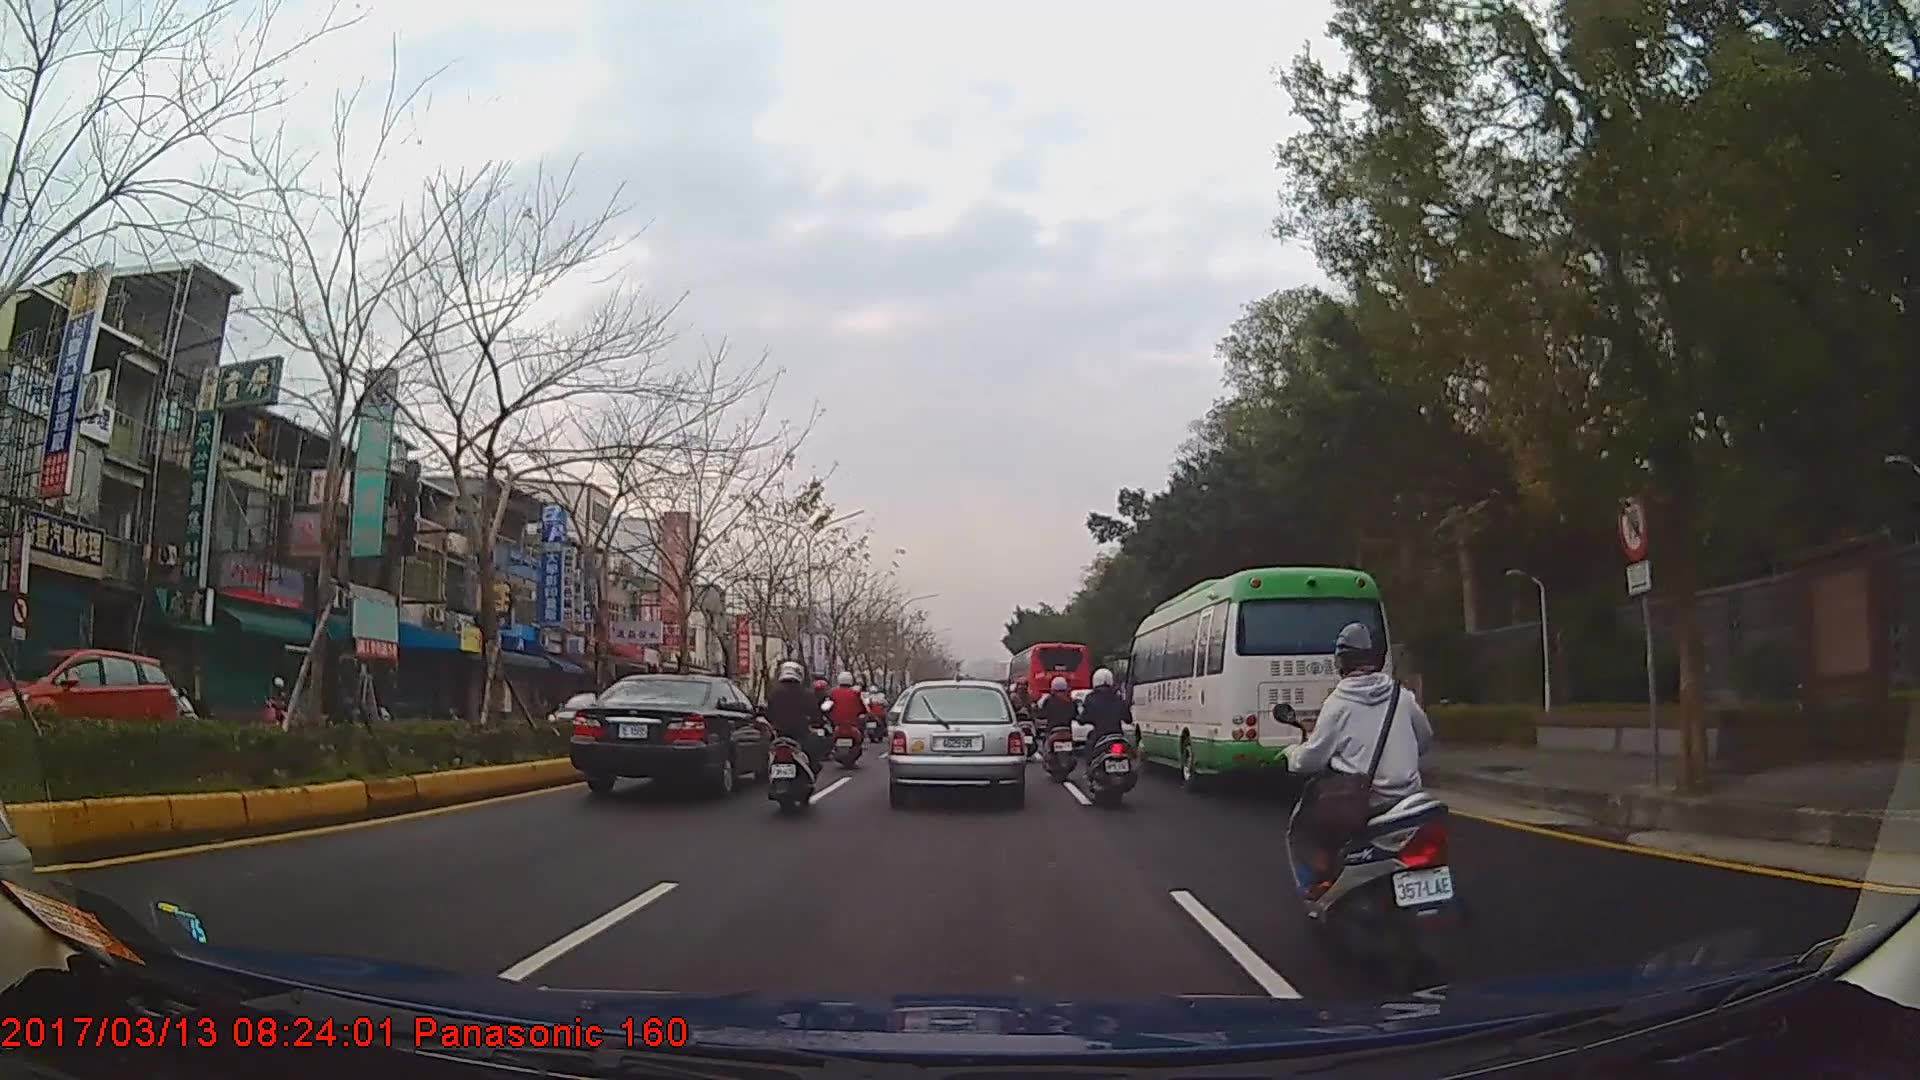rider: (1273, 621, 1461, 972), (760, 657, 831, 812), (1078, 671, 1143, 808), (1038, 672, 1083, 782), (827, 670, 868, 769), (805, 676, 836, 762), (1011, 677, 1039, 758), (259, 677, 290, 723), (865, 682, 888, 731)
vehicle: (1123, 561, 1397, 795), (567, 671, 775, 794), (0, 647, 177, 752), (887, 679, 1025, 805), (1004, 638, 1089, 734)
